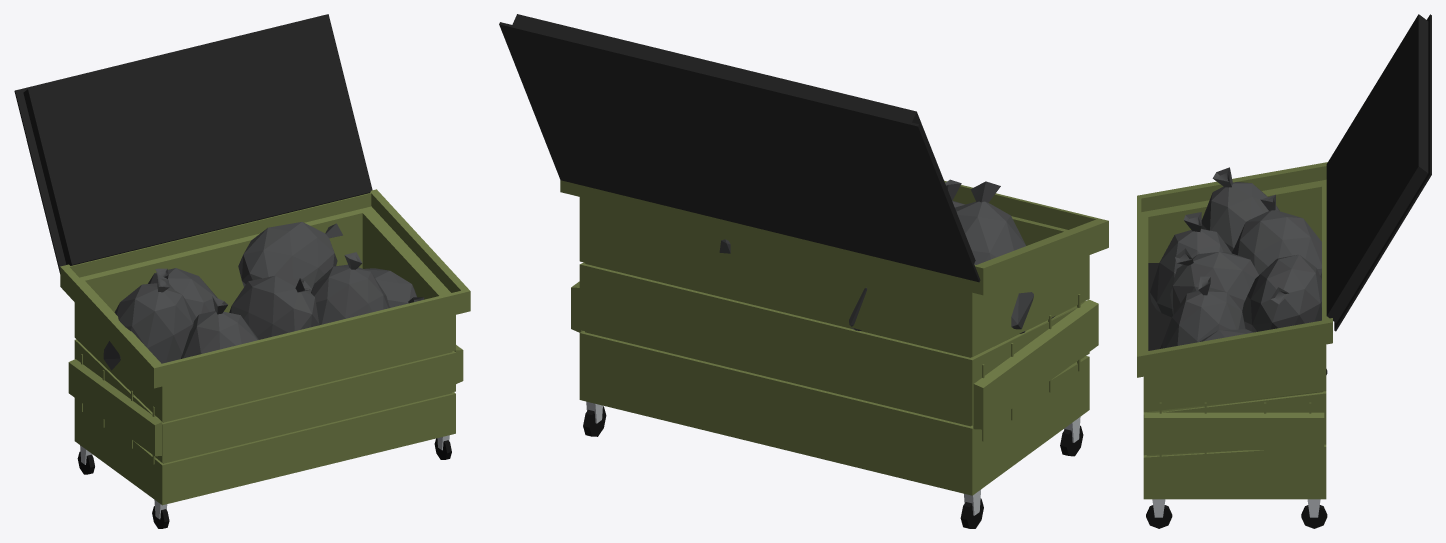
Rendered from SM_garbagecan_large_open.fbx.
3 views of the same model, side by side, from view 1: azimuth 30°, elevation 25°; view 2: azimuth 150°, elevation 25°; view 3: azimuth 270°, elevation 25° (orthographic). The views are drawn at different scales.
Parts seen in each view (by area): view 1: Box103; view 2: Box103; view 3: Box103.
Part boxes in pixels (x1=…): Box103: x1=14, y1=14, x2=470, y2=528; Box103: x1=499, y1=14, x2=1108, y2=528; Box103: x1=1137, y1=14, x2=1431, y2=528.
Bounding box in the file's own units: 90.65 × 70.06 × 95.9.
